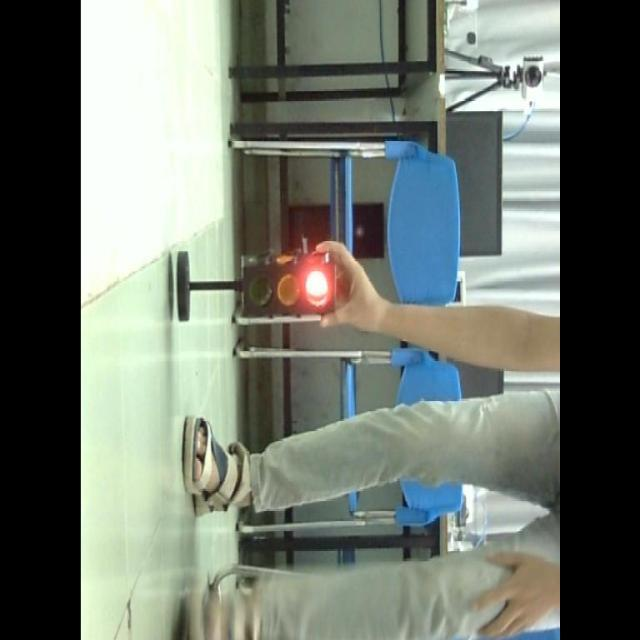red light: (302, 269, 330, 309)
